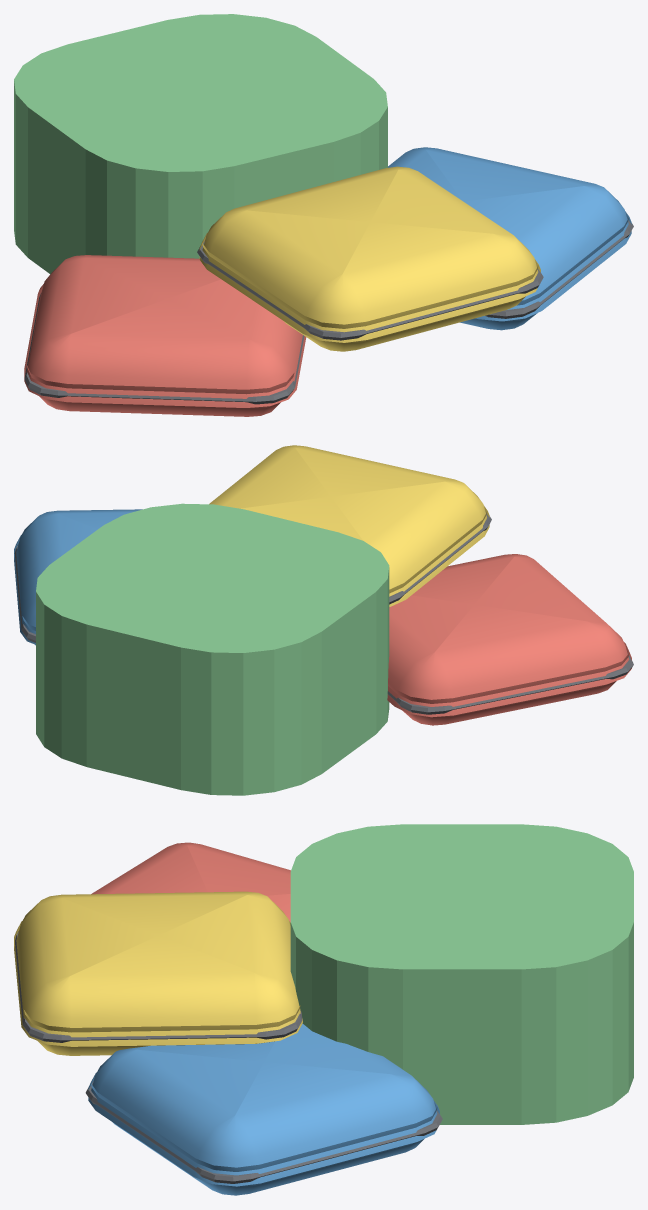
File: nursery-and-primary-classroom-floor-cushion-set-c2d4c8e7__35002.glb
3 renders of one model, top to bottom at view 1: azimuth 30°, elevation 25°; view 2: azimuth 150°, elevation 25°; view 3: azimuth 270°, elevation 25°, orthographic. The views are drawn at different scales.
Parts seen in each view (by area): view 1: floor-cushion-set; view 2: floor-cushion-set; view 3: floor-cushion-set.
Boxes of the visible parts, box(x1,y1,x2,y2) form: floor-cushion-set: box(14, 14, 633, 416); floor-cushion-set: box(14, 445, 633, 795); floor-cushion-set: box(14, 824, 633, 1195).
Bounding box in the file's own units: 1.12 × 0.26 × 0.9389.
